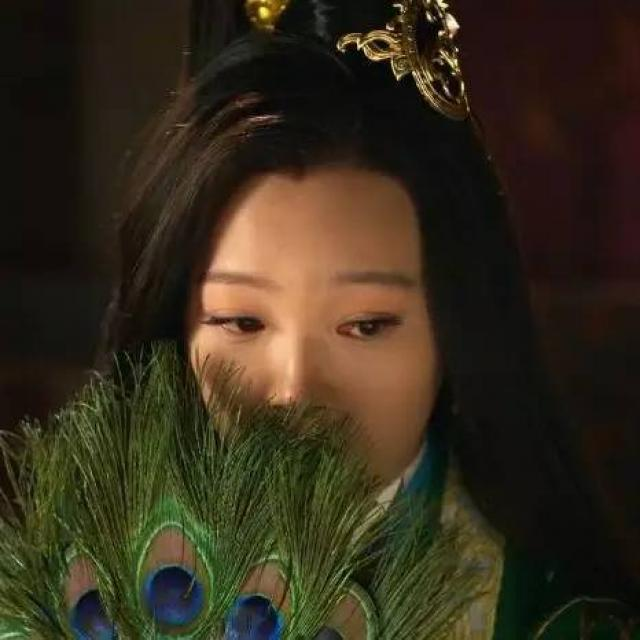nomask: (179, 173, 428, 519)
